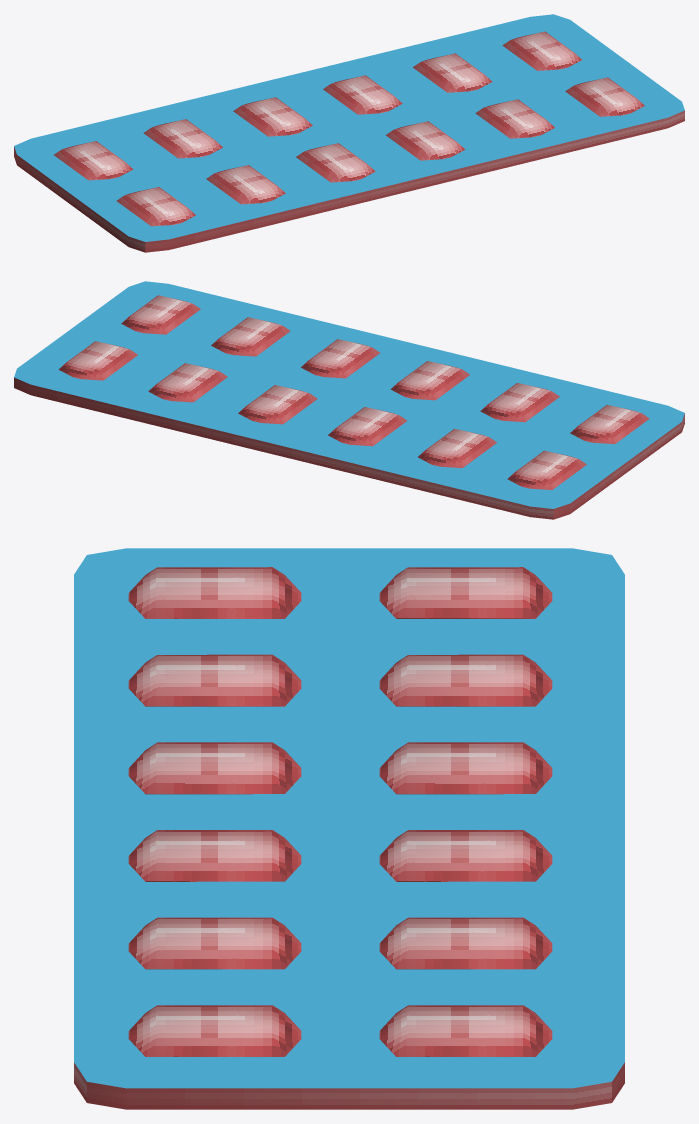
Rendered from AntibioticsBlisterV2.fbx.
3 renders of one model, top to bottom at view 1: azimuth 30°, elevation 25°; view 2: azimuth 150°, elevation 25°; view 3: azimuth 270°, elevation 25°, orthographic. The views are drawn at different scales.
Parts seen in each view (by area): view 1: PainKillers; view 2: PainKillers; view 3: PainKillers.
Part boxes in pixels (x1,y1,x2,y2): PainKillers: [14, 14, 684, 252]; PainKillers: [14, 281, 684, 519]; PainKillers: [74, 548, 624, 1109].
Size of the model in its own units: 27.6 by 0.8116 by 11.91.
